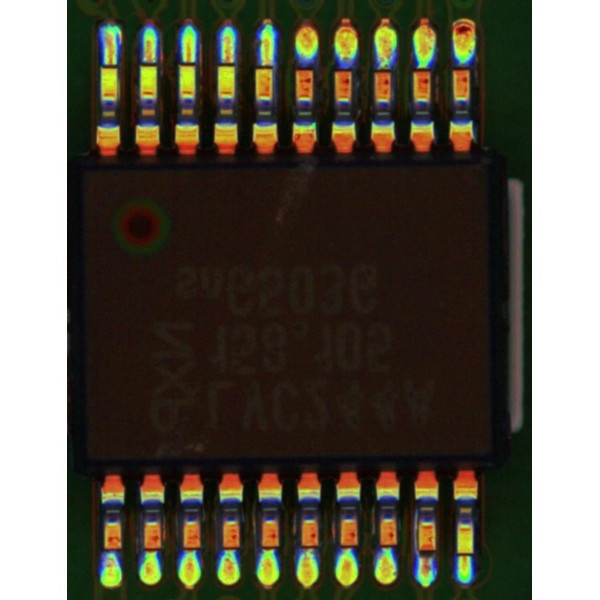Bad_podu: (420, 540, 432, 571), (220, 54, 234, 78), (459, 544, 471, 569), (143, 51, 155, 75), (182, 53, 194, 76), (104, 54, 116, 77), (260, 53, 271, 73)
Bad_qiaojiao: (413, 510, 418, 558)
